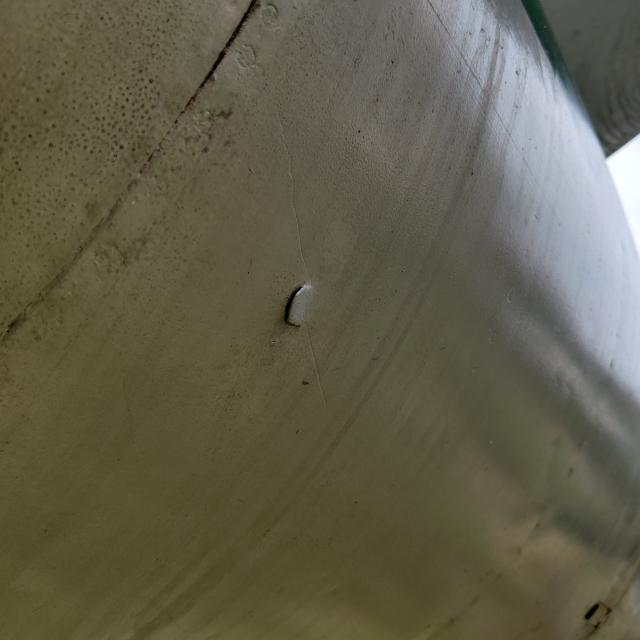crack: (269, 269, 335, 339)
